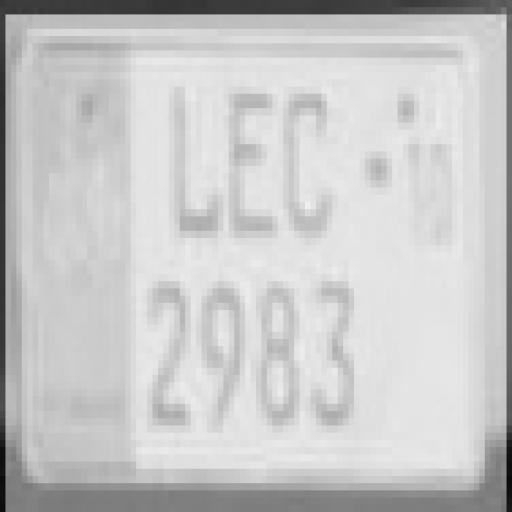2: (142, 274, 192, 425)
3: (312, 276, 360, 434)
8: (250, 273, 309, 431)
9: (200, 282, 246, 429)
C: (282, 73, 336, 239)
E: (227, 86, 281, 243)
L: (168, 83, 220, 249)
